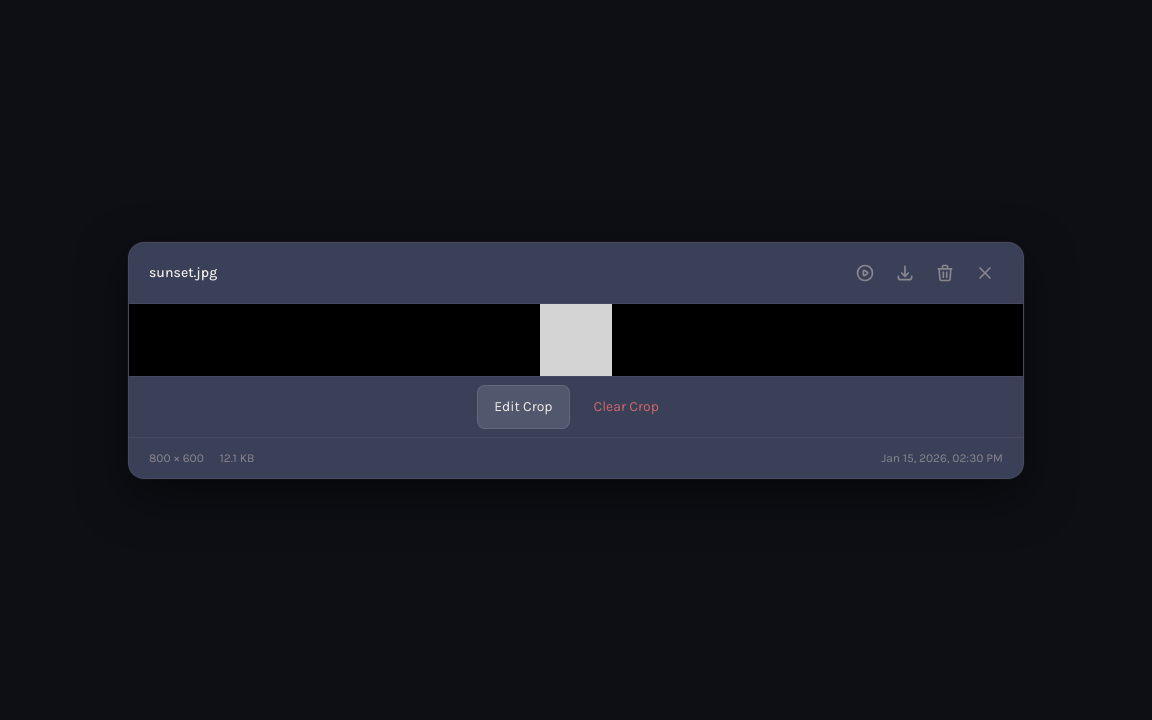
MediaDetailModal › Crop controls › shows error banner when remove crop API fails
This screenshot has width=1152, height=720.
Click the button with aria-label "remove crop": (626, 406) left=578, top=384, right=675, bottom=428
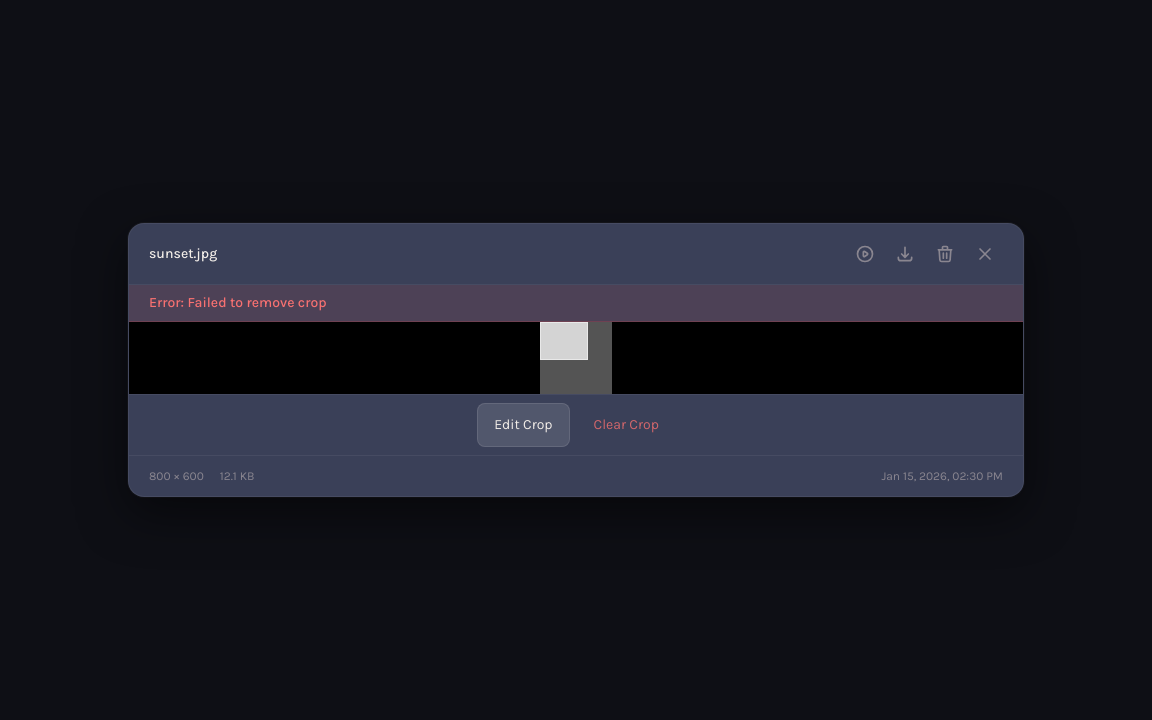
Expected: the text "Error: Failed to remove crop" is shown, left=149, top=294, right=326, bottom=311
